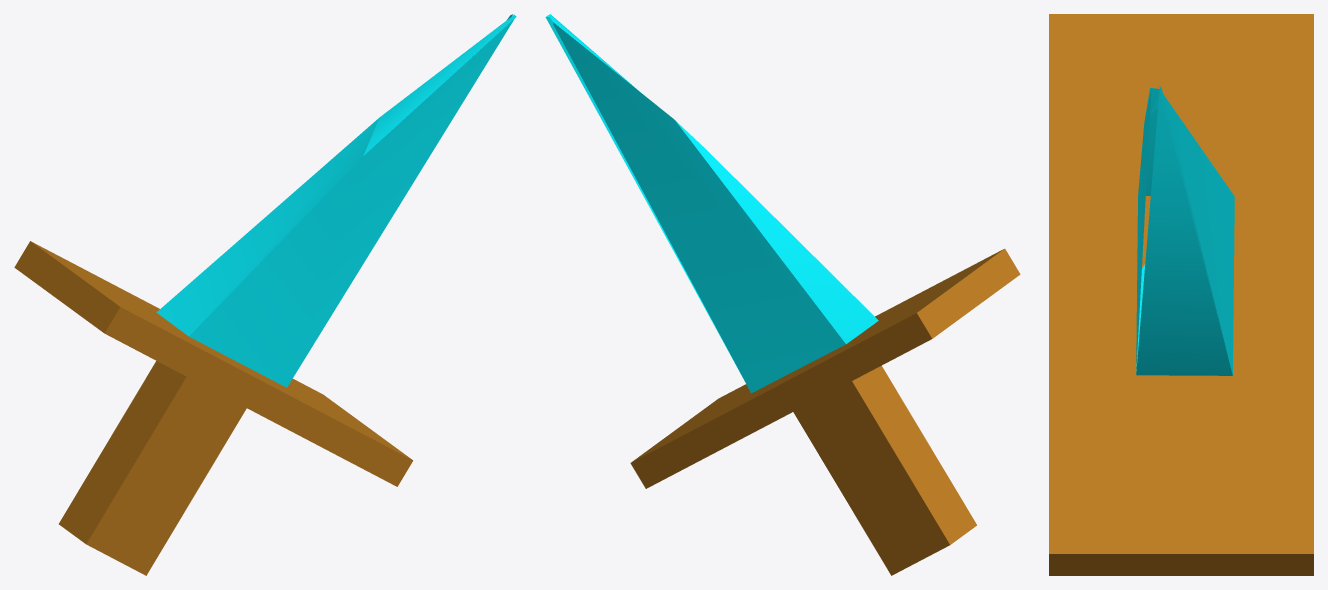
Rendered from Diamond Sword.glb.
3 renders of one model, left to right at view 1: azimuth 30°, elevation 25°; view 2: azimuth 150°, elevation 25°; view 3: azimuth 270°, elevation 25°, orthographic. The views are drawn at different scales.
Parts seen in each view (by area): view 1: Cube001_1, Cube001; view 2: Cube001_1, Cube001; view 3: Cube001_1, Cube001.
Part boxes in pixels (box(x1,y1,x2,y2)): Cube001_1: box(14, 241, 413, 575); Cube001: box(156, 14, 516, 387); Cube001_1: box(630, 248, 1020, 575); Cube001: box(545, 14, 878, 393); Cube001_1: box(1049, 14, 1313, 575); Cube001: box(1136, 86, 1234, 375).
Size of the model in its own units: 7.39 by 7.35 by 2.58.
